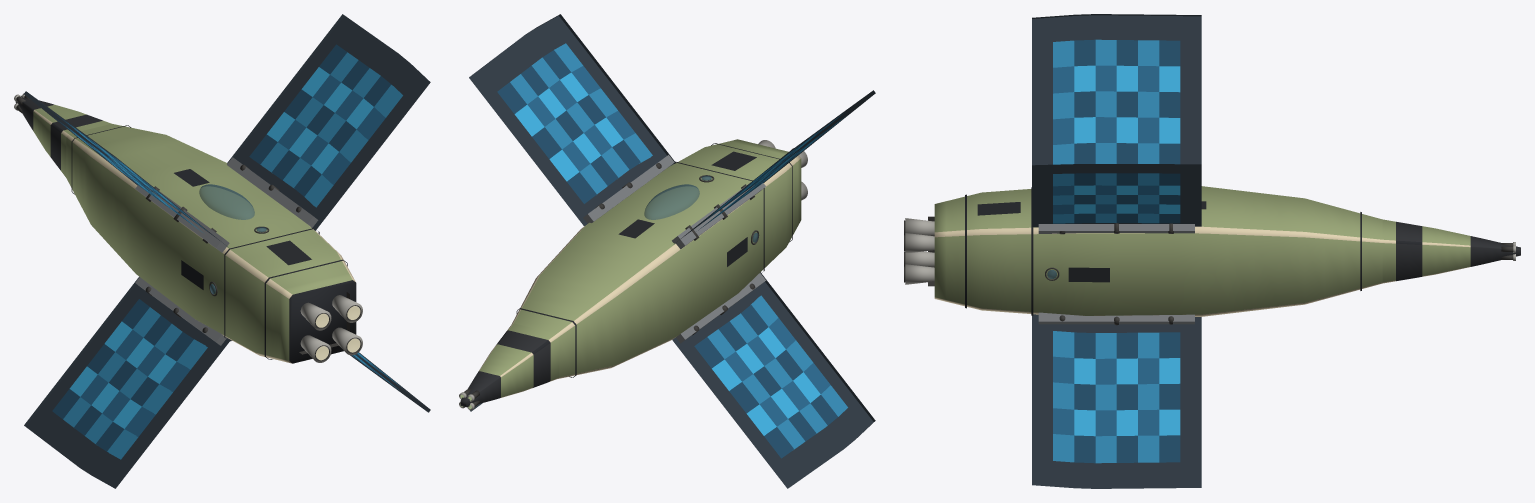
The model's file is Ship_Crosspanel_6.glb.
3 views of the same model, side by side, from view 1: azimuth 30°, elevation 25°; view 2: azimuth 150°, elevation 25°; view 3: azimuth 270°, elevation 25° (orthographic). The views are drawn at different scales.
Parts seen in each view (by area): view 1: Fuselage_SquareBody, SolarPanelWing_LowerLeftRidge_RectangularPhotovoltaicGrid, SolarPanelWing_TopRightRidge_RectangularPhotovoltaicGrid, Nose_SquareTaperedForwardSection, SolarPanelWing_TopLeftRidge_RectangularPhotovoltaicGrid, Canopy_DorsalLowSquareBubble, SolarPanelWing_TopLeftRidge_RootHingeClamp, SolarPanelWing_TopRightRidge_RootHingeClamp, SolarPanelWing_LowerLeftRidge_RootHingeClamp, EngineEmitter, HullAccessPanel_TopAft, SolarPanelWing_LowerRightRidge_RectangularPhotovoltaicGrid; view 2: Fuselage_SquareBody, SolarPanelWing_TopRightRidge_RectangularPhotovoltaicGrid, SolarPanelWing_LowerLeftRidge_RectangularPhotovoltaicGrid, Nose_SquareTaperedForwardSection, SolarPanelWing_TopLeftRidge_RectangularPhotovoltaicGrid, Canopy_DorsalLowSquareBubble, SolarPanelWing_TopRightRidge_RootHingeClamp, SolarPanelWing_TopLeftRidge_RootHingeClamp, SolarPanelWing_LowerLeftRidge_RootHingeClamp, HullAccessPanel_TopAft; view 3: Fuselage_SquareBody, SolarPanelWing_LowerRightRidge_RectangularPhotovoltaicGrid, SolarPanelWing_TopLeftRidge_RectangularPhotovoltaicGrid, SolarPanelWing_TopRightRidge_RectangularPhotovoltaicGrid, Nose_SquareTaperedForwardSection, SolarPanelWing_LowerRightRidge_RootHingeClamp, SolarPanelWing_TopRightRidge_RootHingeClamp.
Part boxes in pixels (left/top/right/bottom): Fuselage_SquareBody: left=66, top=123, right=356, bottom=363; SolarPanelWing_LowerLeftRidge_RectangularPhotovoltaicGrid: left=24, top=276, right=230, bottom=488; SolarPanelWing_TopRightRidge_RectangularPhotovoltaicGrid: left=227, top=14, right=430, bottom=230; Nose_SquareTaperedForwardSection: left=15, top=95, right=111, bottom=177; SolarPanelWing_TopLeftRidge_RectangularPhotovoltaicGrid: left=24, top=91, right=228, bottom=247; Canopy_DorsalLowSquareBubble: left=199, top=184, right=254, bottom=219; SolarPanelWing_TopLeftRidge_RootHingeClamp: left=135, top=185, right=229, bottom=252; SolarPanelWing_TopRightRidge_RootHingeClamp: left=227, top=157, right=318, bottom=227; SolarPanelWing_LowerLeftRidge_RootHingeClamp: left=135, top=277, right=226, bottom=345; EngineEmitter: left=315, top=306, right=360, bottom=360; HullAccessPanel_TopAft: left=266, top=240, right=311, bottom=265; SolarPanelWing_LowerRightRidge_RectangularPhotovoltaicGrid: left=350, top=352, right=430, bottom=412; Fuselage_SquareBody: left=511, top=139, right=801, bottom=378; SolarPanelWing_TopRightRidge_RectangularPhotovoltaicGrid: left=469, top=14, right=675, bottom=226; SolarPanelWing_LowerLeftRidge_RectangularPhotovoltaicGrid: left=672, top=272, right=875, bottom=488; Nose_SquareTaperedForwardSection: left=460, top=323, right=559, bottom=407; SolarPanelWing_TopLeftRidge_RectangularPhotovoltaicGrid: left=674, top=90, right=875, bottom=243; Canopy_DorsalLowSquareBubble: left=644, top=184, right=699, bottom=219; SolarPanelWing_TopRightRidge_RootHingeClamp: left=583, top=155, right=674, bottom=223; SolarPanelWing_TopLeftRidge_RootHingeClamp: left=672, top=183, right=765, bottom=249; SolarPanelWing_LowerLeftRidge_RootHingeClamp: left=676, top=273, right=765, bottom=343; HullAccessPanel_TopAft: left=711, top=151, right=756, bottom=170; Fuselage_SquareBody: left=934, top=186, right=1382, bottom=316; SolarPanelWing_LowerRightRidge_RectangularPhotovoltaicGrid: left=1032, top=314, right=1201, bottom=488; SolarPanelWing_TopLeftRidge_RectangularPhotovoltaicGrid: left=1032, top=14, right=1201, bottom=165; SolarPanelWing_TopRightRidge_RectangularPhotovoltaicGrid: left=1032, top=164, right=1201, bottom=227; Nose_SquareTaperedForwardSection: left=1382, top=219, right=1520, bottom=283; SolarPanelWing_LowerRightRidge_RootHingeClamp: left=1038, top=312, right=1194, bottom=324; SolarPanelWing_TopRightRidge_RootHingeClamp: left=1038, top=224, right=1194, bottom=233.
Size of the model in its own units: 5.12 by 5.12 by 8.8.
